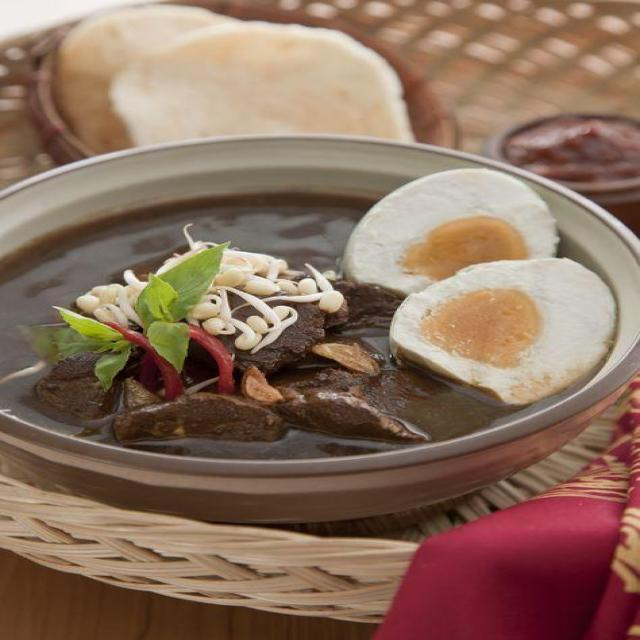Rawon: (0, 183, 578, 450)
